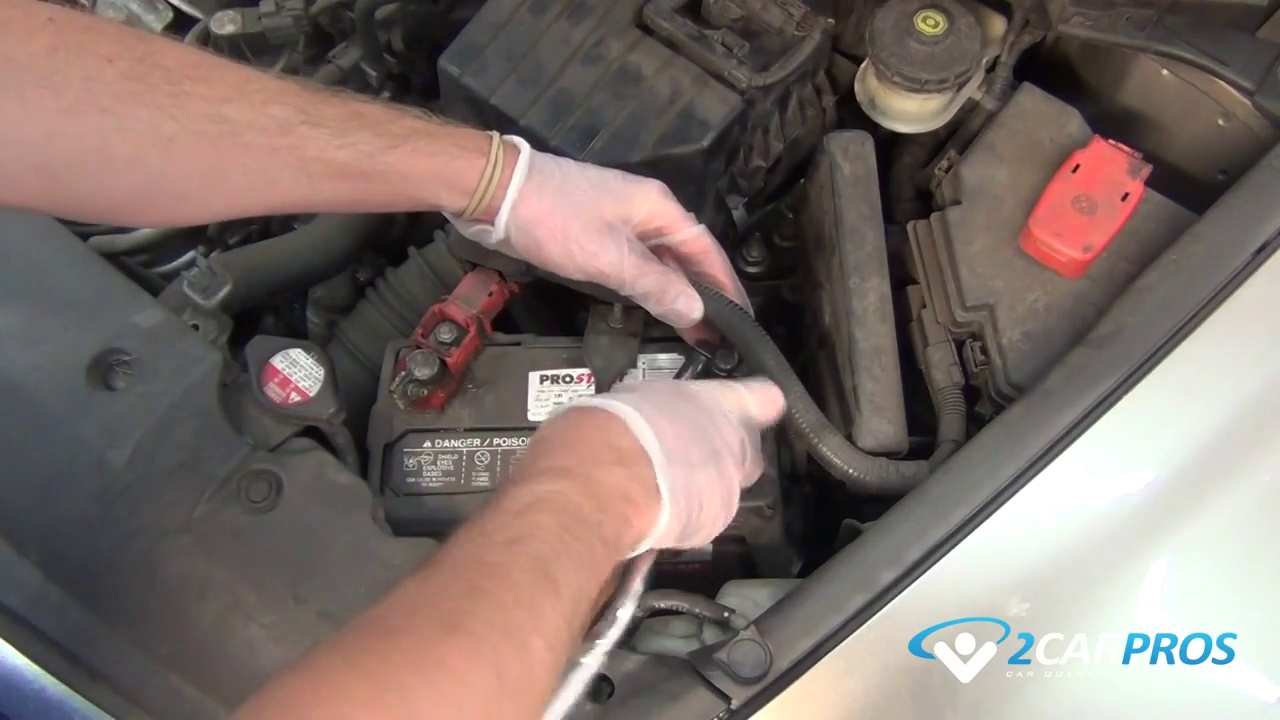battery: (380, 318, 779, 559)
neg_touched: (665, 315, 781, 461)
pos_connected: (398, 272, 496, 442)
